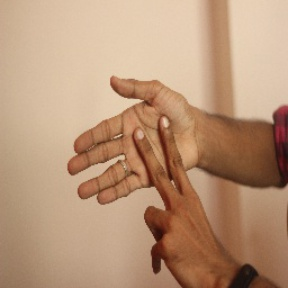N: (63, 70, 207, 257)
